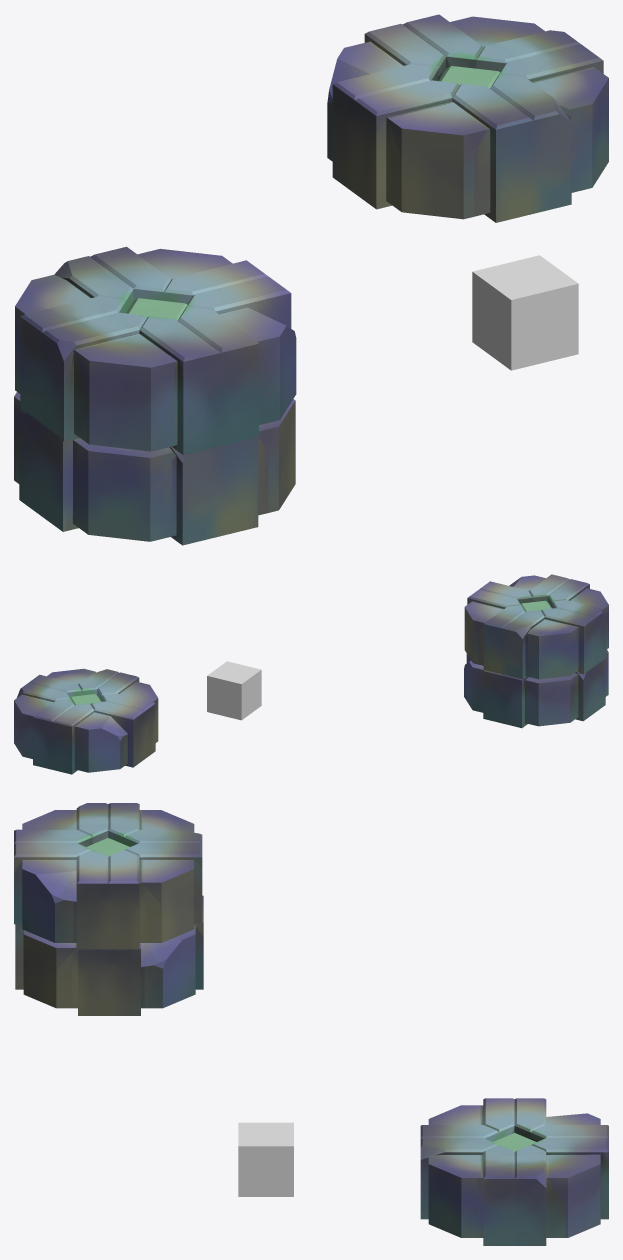
File: battlescence-4-floor008-2.fbx
3 renders of one model, top to bottom at view 1: azimuth 30°, elevation 25°; view 2: azimuth 150°, elevation 25°; view 3: azimuth 270°, elevation 25°, orthographic. The views are drawn at different scales.
Visible parts, largest first — view 1: Plane.036, Plane.042, Plane.040, battlescence-4-floor008-2; view 2: Plane.036, Plane.042, Plane.040, battlescence-4-floor008-2; view 3: Plane.042, Plane.036, Plane.040, battlescence-4-floor008-2.
Boxes of the visible parts, <box> form: Plane.036: <box>327,14,608,222</box>; Plane.042: <box>15,246,296,455</box>; Plane.040: <box>14,392,295,545</box>; battlescence-4-floor008-2: <box>472,255,578,370</box>; Plane.036: <box>14,668,158,774</box>; Plane.042: <box>464,574,608,679</box>; Plane.040: <box>464,649,608,728</box>; battlescence-4-floor008-2: <box>207,661,261,720</box>; Plane.042: <box>14,803,202,950</box>; Plane.036: <box>420,1098,608,1245</box>; Plane.040: <box>15,895,203,1015</box>; battlescence-4-floor008-2: <box>238,1122,293,1196</box>.
Size of the model in its own units: 1509 by 427 by 1316.
